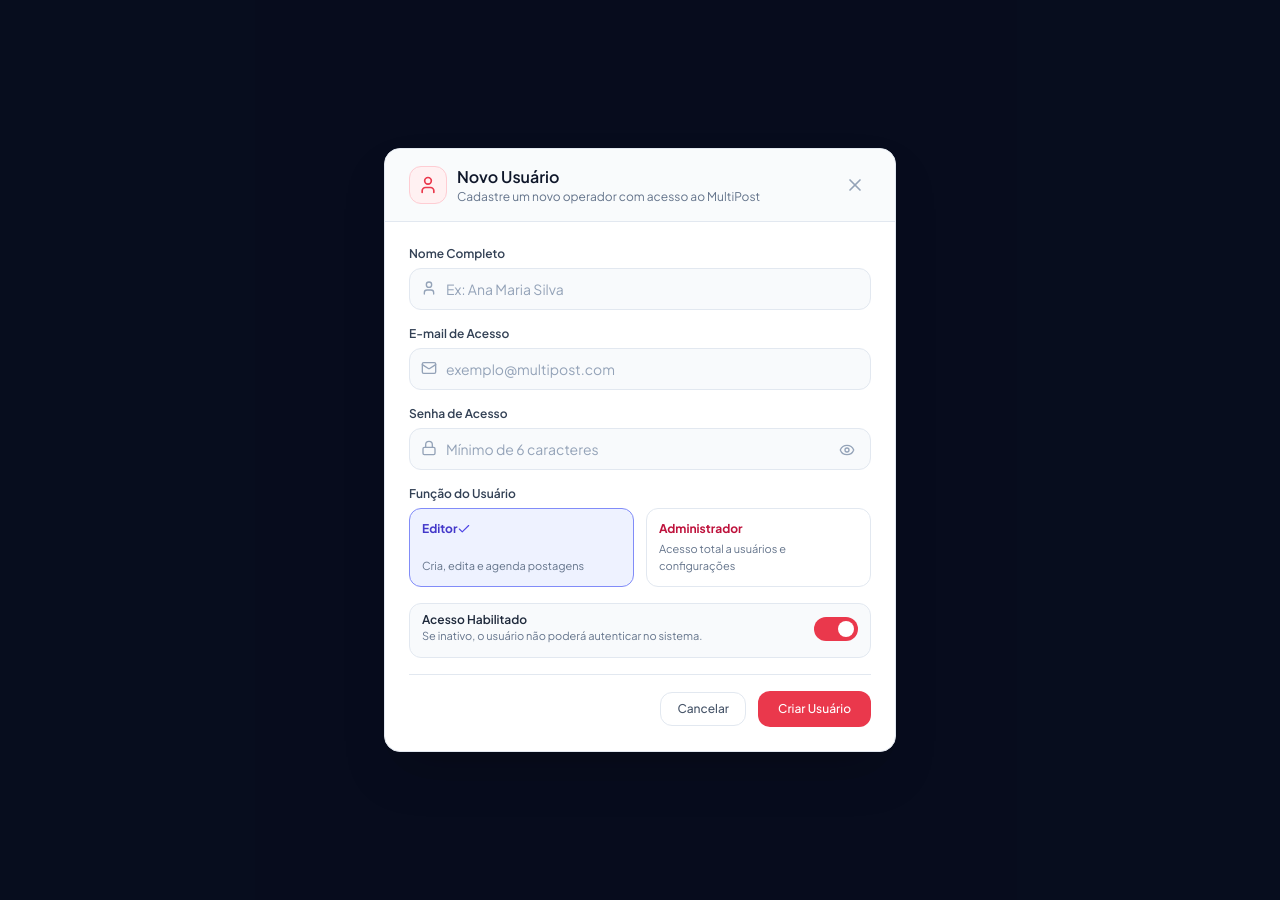
Test: UserModal Component › validates minimum password length in create mode
Step 1. Type "Carlos Admin" into the field with test id "input-user-name" → [640, 289], box [409, 268, 871, 310]
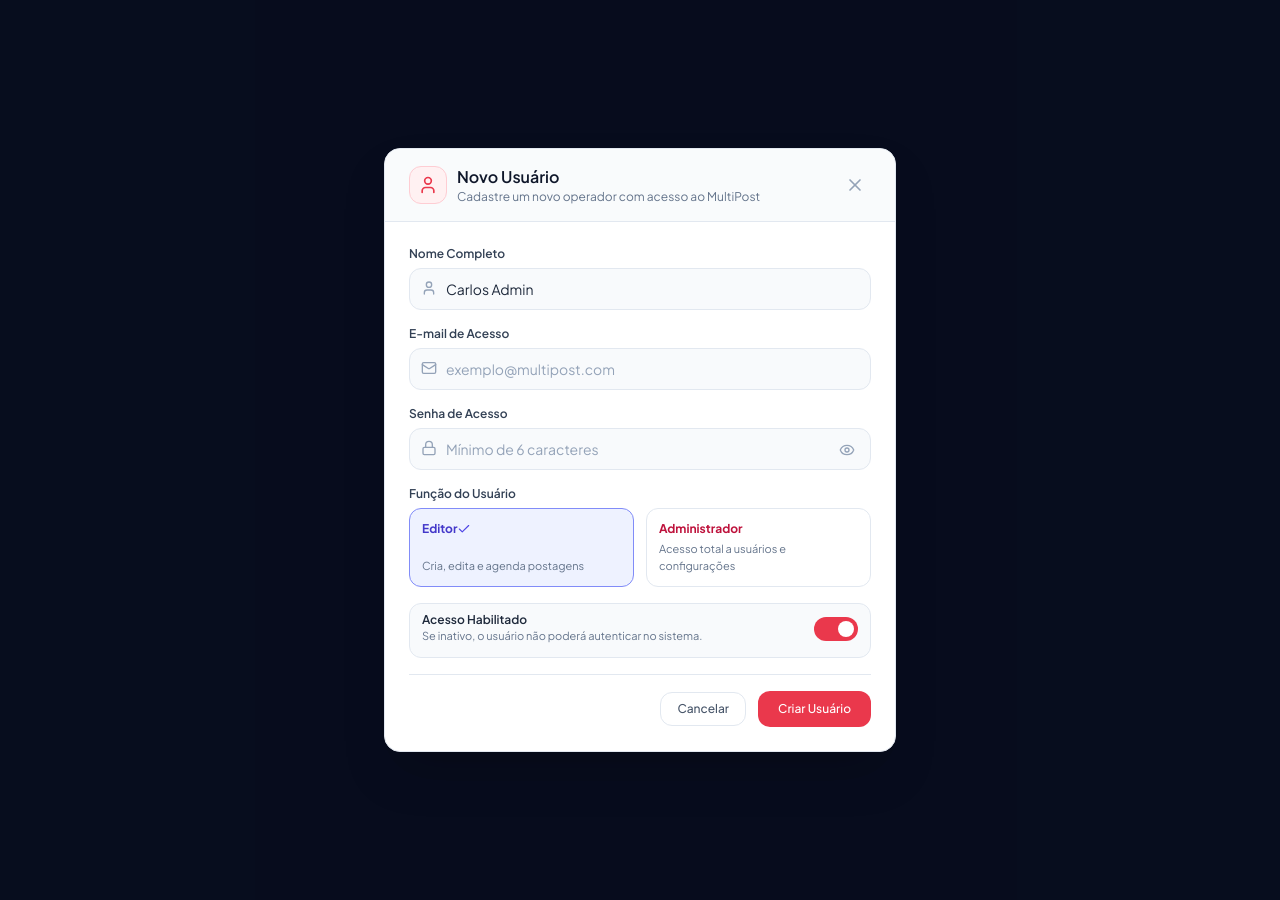
Step 2. Type "carlos@test.com" into the field with test id "input-user-email" → [640, 369], box [409, 348, 871, 390]
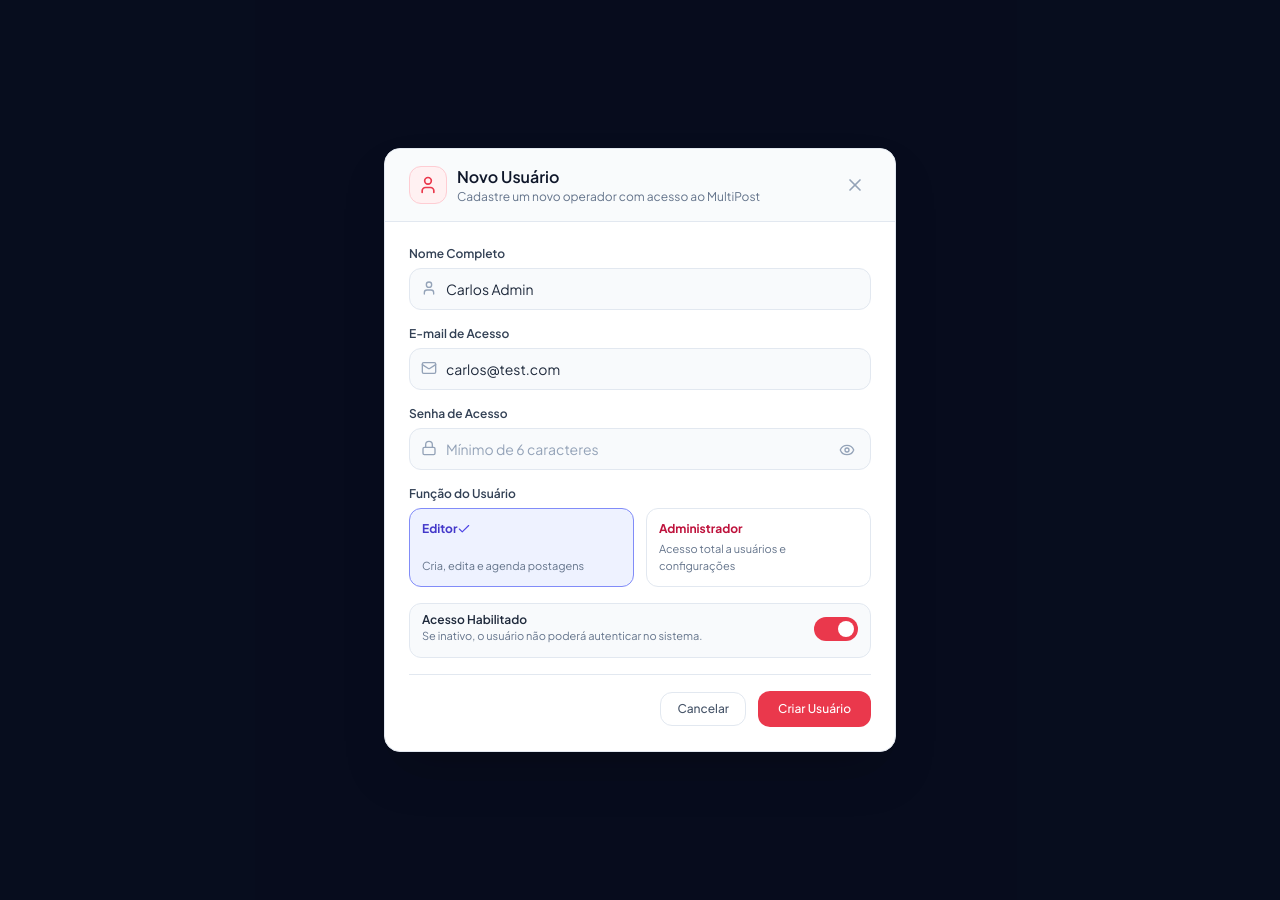
Step 3. Type "123" into the password field with test id "input-user-password" → [640, 449], box [409, 428, 871, 470]
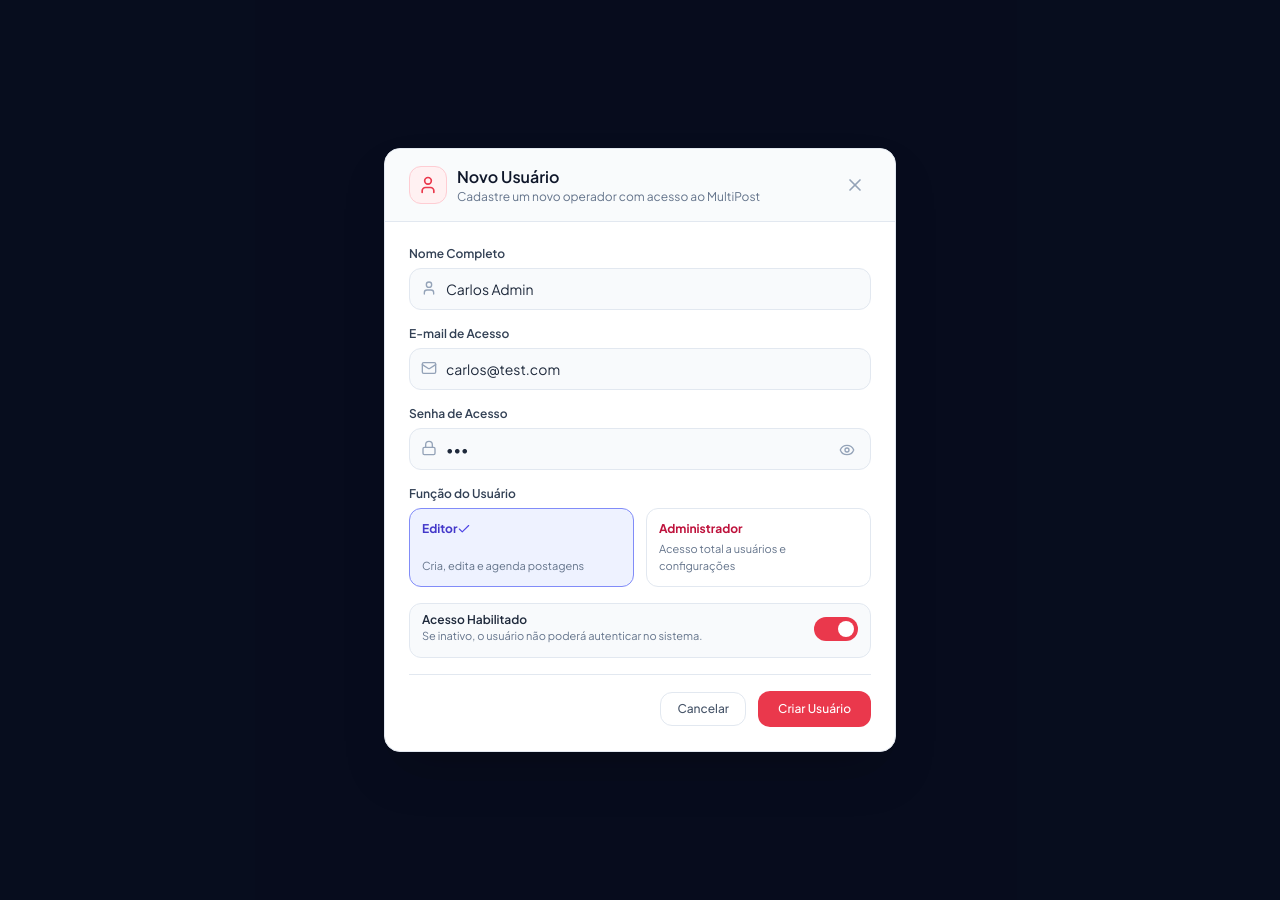
Step 4. Click the button with test id "btn-submit-user" → [815, 709], box [758, 691, 871, 727]
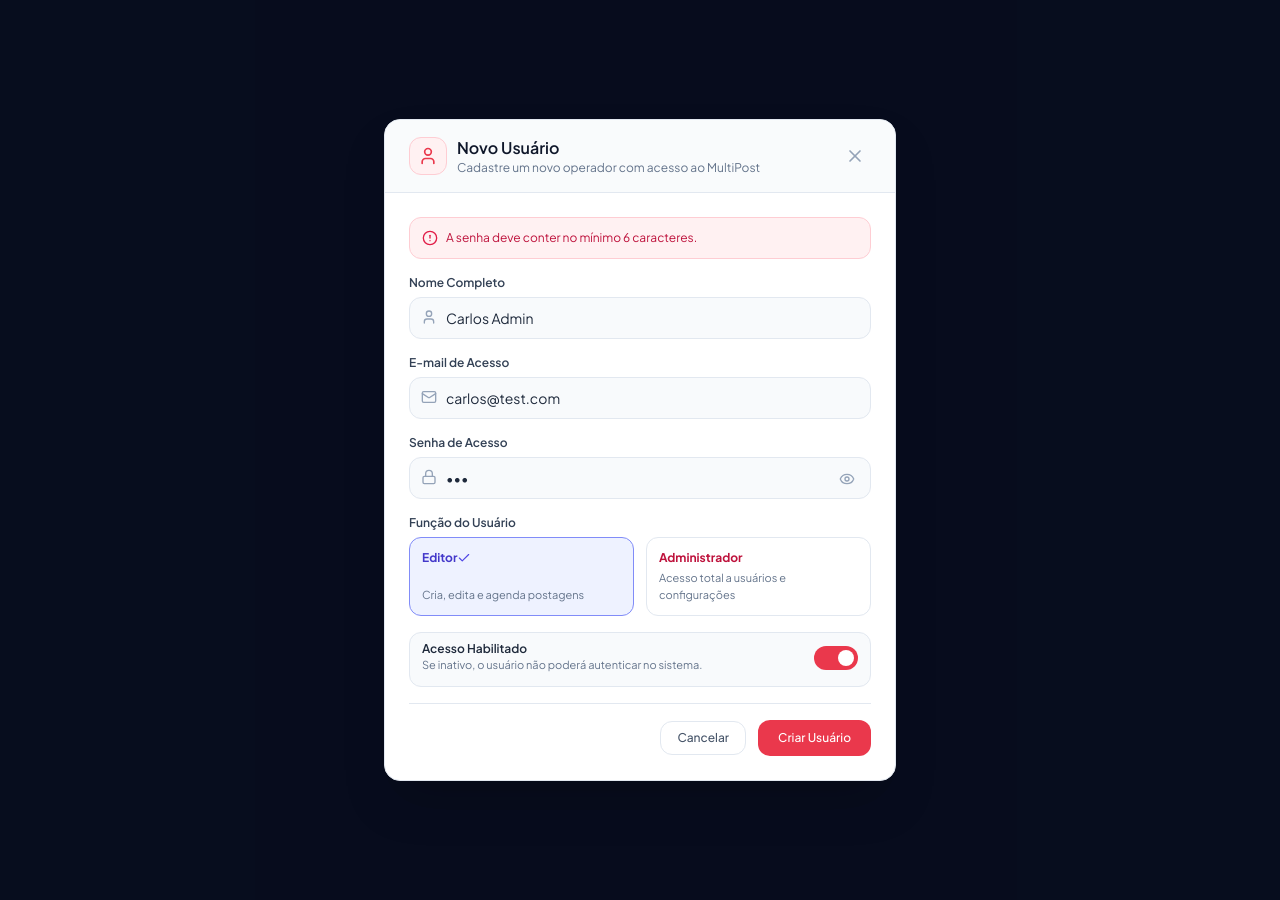
Expected: the text "A senha deve conter no mínimo 6 caracteres." is shown, [446, 230, 697, 246]
